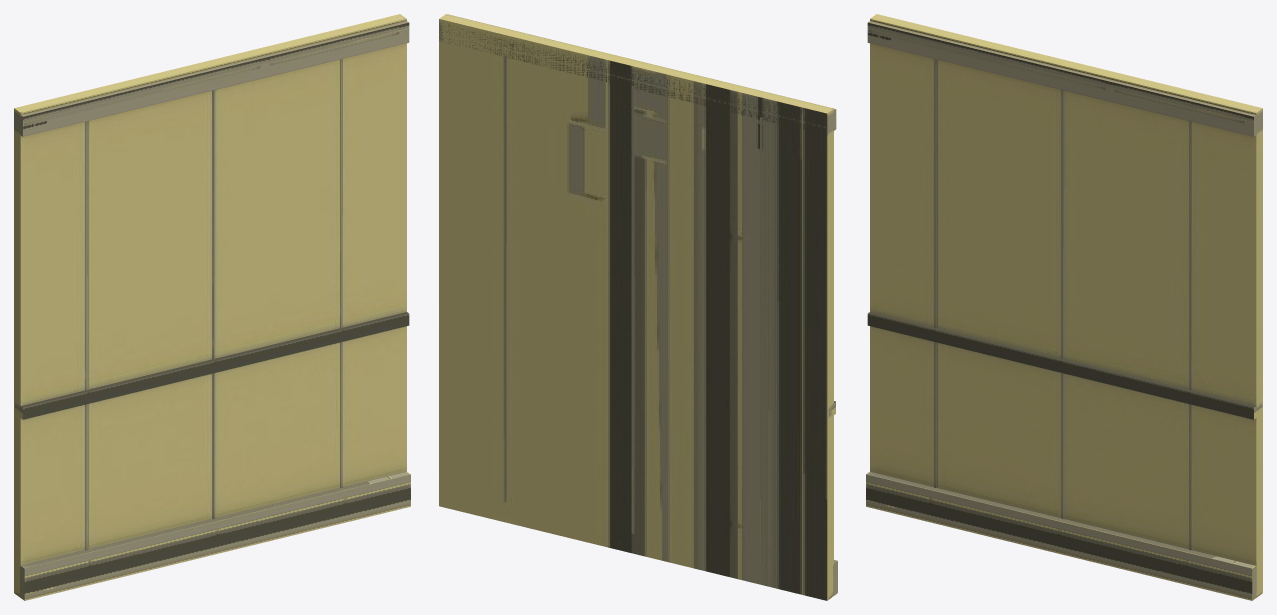
The model's file is PR_wall_panel_L0.glb.
3 renders of one model, left to right at view 1: azimuth 30°, elevation 25°; view 2: azimuth 150°, elevation 25°; view 3: azimuth 330°, elevation 25°, orthographic.
Parts seen in each view (by area): view 1: PR_wall_panel_L0; view 2: PR_wall_panel_L0; view 3: PR_wall_panel_L0.
Part boxes in pixels (x1,y1,x2,y2): PR_wall_panel_L0: (14,14,410,600); PR_wall_panel_L0: (439,14,837,600); PR_wall_panel_L0: (866,14,1262,600).
Size of the model in its own units: 2 by 2.4 by 0.097.
1 material, 1 textured.
